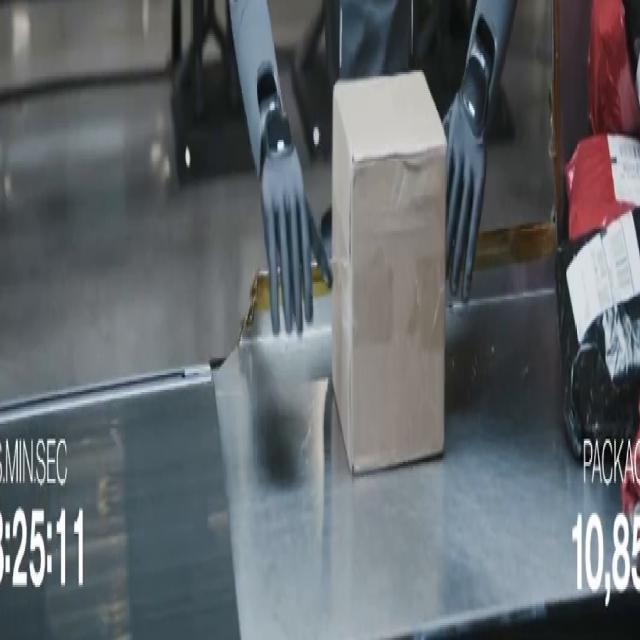package: (332, 73, 446, 472), (556, 210, 639, 457), (566, 136, 639, 239), (588, 0, 639, 135), (621, 433, 639, 519), (623, 0, 639, 69)
